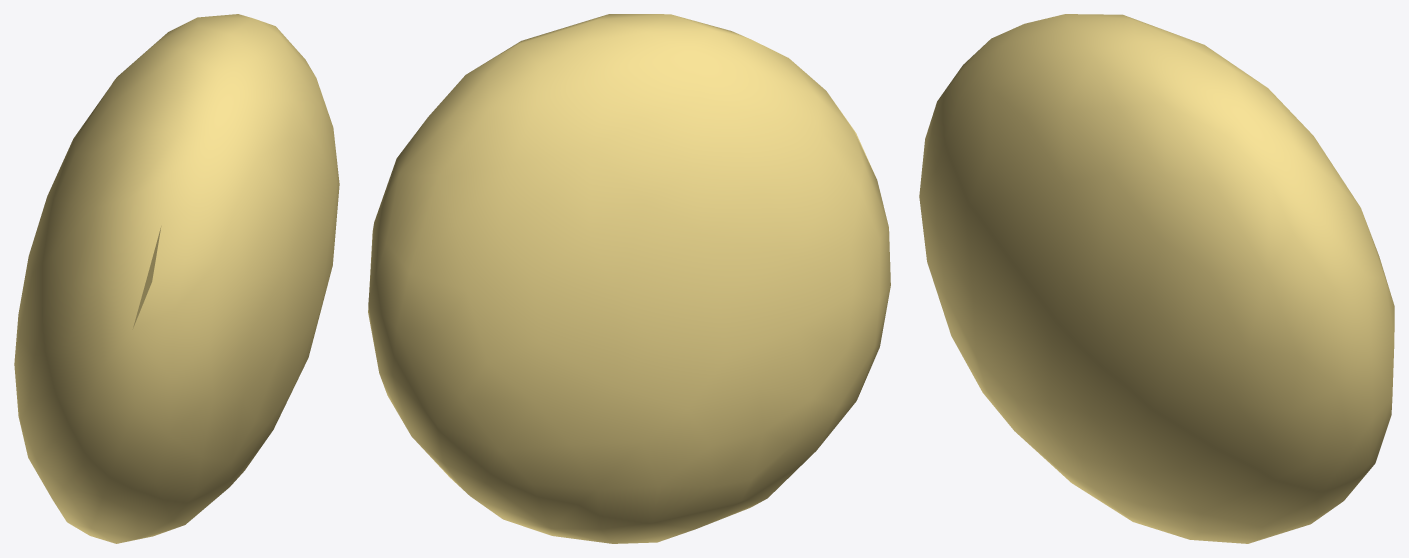
File: fma73510_mm3556.glb
3 renders of one model, left to right at view 1: azimuth 30°, elevation 25°; view 2: azimuth 150°, elevation 25°; view 3: azimuth 270°, elevation 25°, orthographic. The views are drawn at different scales.
Parts seen in each view (by area): view 1: FMA73510_MM3556; view 2: FMA73510_MM3556; view 3: FMA73510_MM3556.
Boxes of the visible parts, left/top/right/bottom form: FMA73510_MM3556: left=14, top=14, right=339, bottom=543; FMA73510_MM3556: left=368, top=14, right=890, bottom=543; FMA73510_MM3556: left=919, top=14, right=1394, bottom=543.
Bounding box in the file's own units: 0.00193 × 0.00237 × 0.00198.
